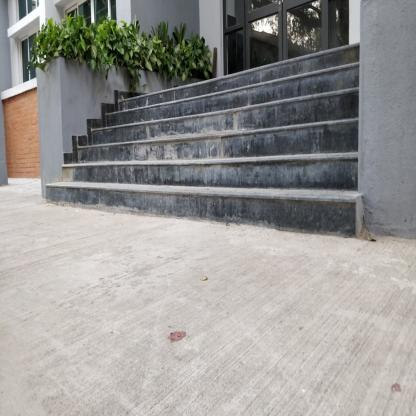stairs: (153, 99, 339, 240)
